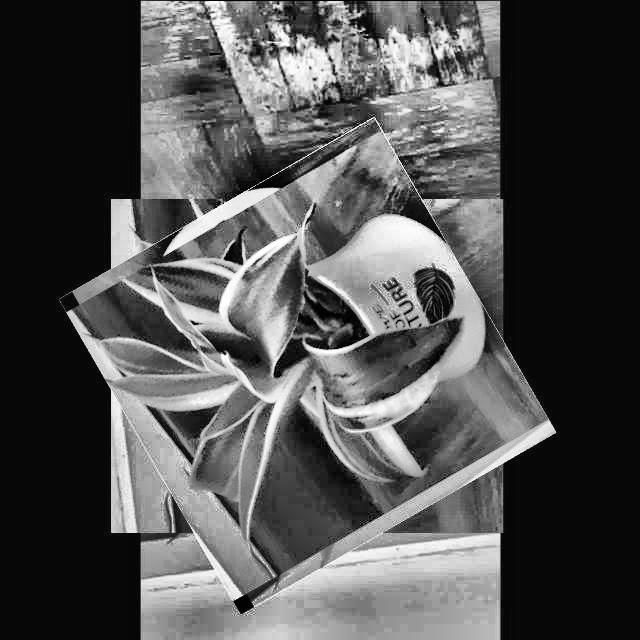plants: (92, 150, 522, 581)
